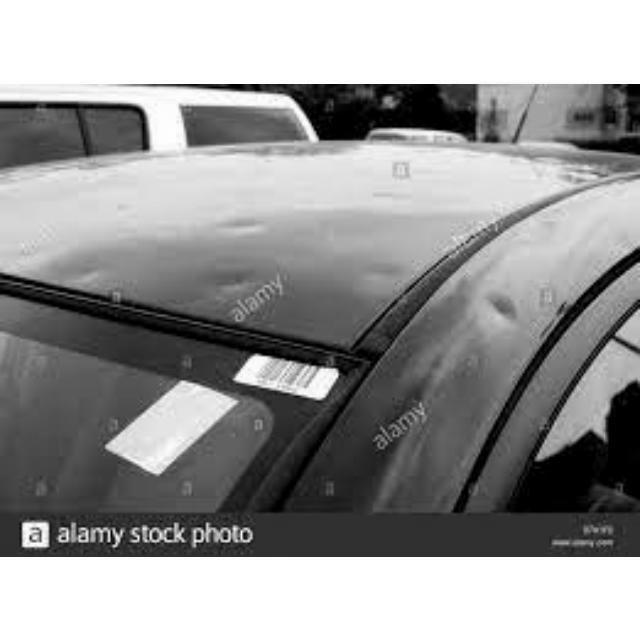roof-dent: (317, 147, 625, 397), (3, 183, 363, 396)
